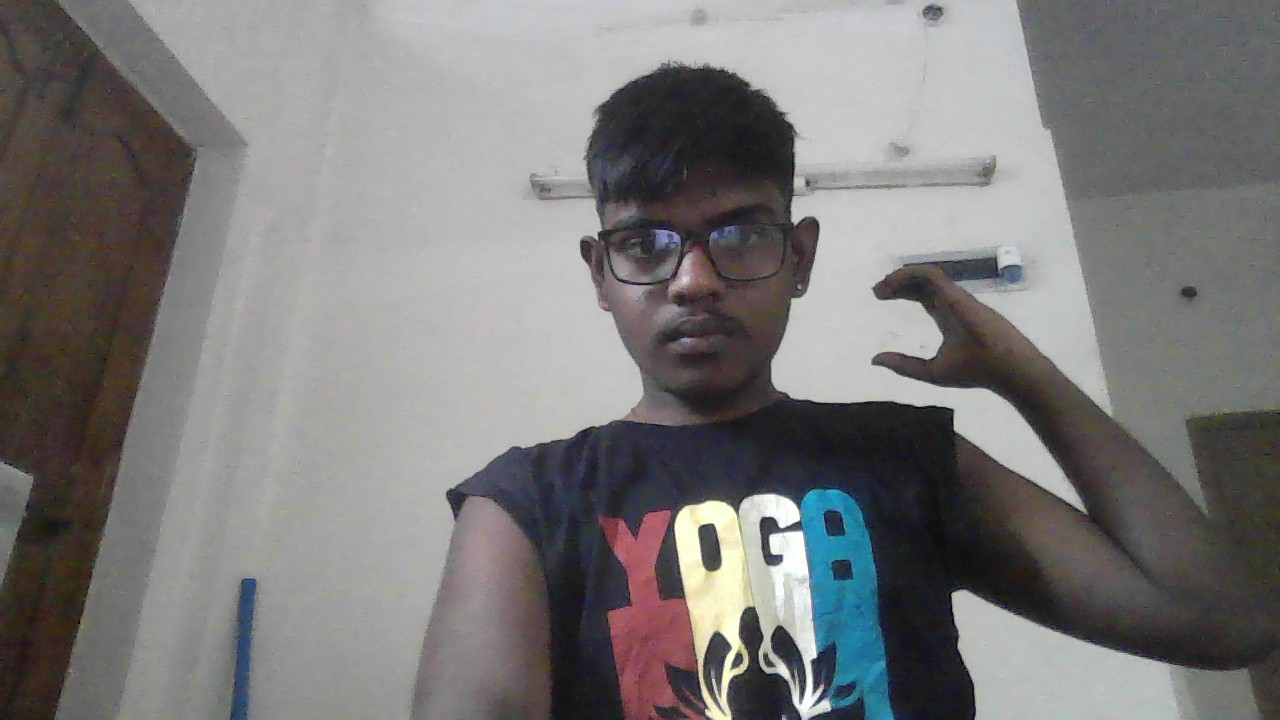C: (870, 265, 1007, 398)
